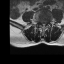CCS_normal: (43, 21, 44, 28)
LFS_severe_stenosis: (46, 20, 48, 24)
LLS_stenosis: (44, 22, 46, 26)
RFS_severe_stenosis: (39, 20, 41, 25)
RLS_severe_stenosis: (41, 21, 43, 26)
